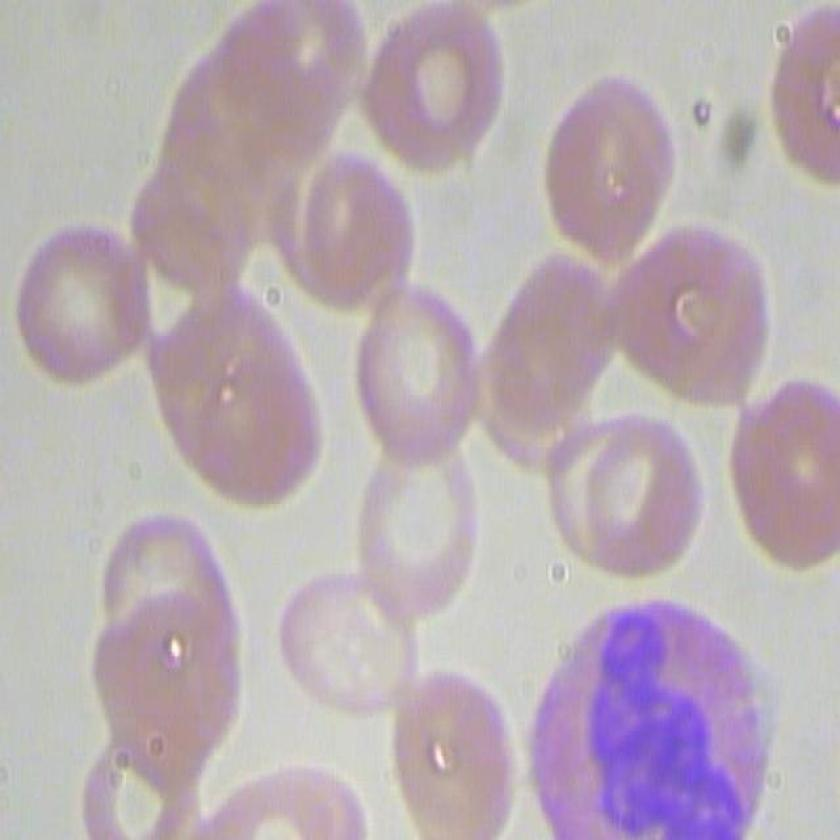eosinophil: (513, 581, 800, 840)
